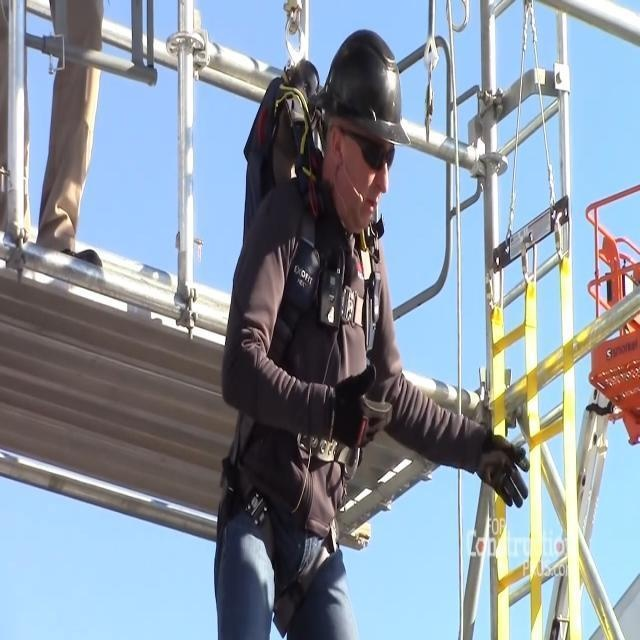Arnes_seguridad: (209, 54, 379, 631)
